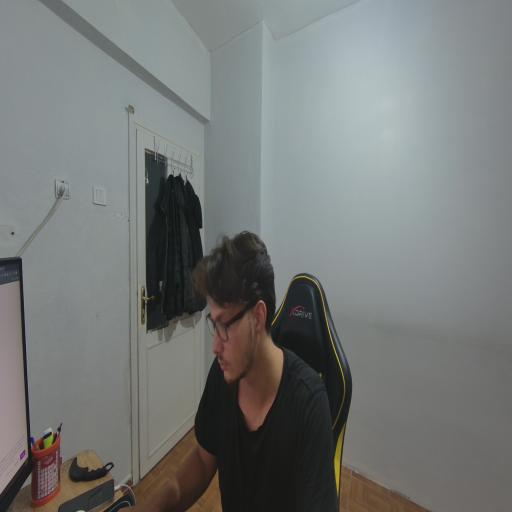cuma-face-v2: (214, 243, 270, 385)
